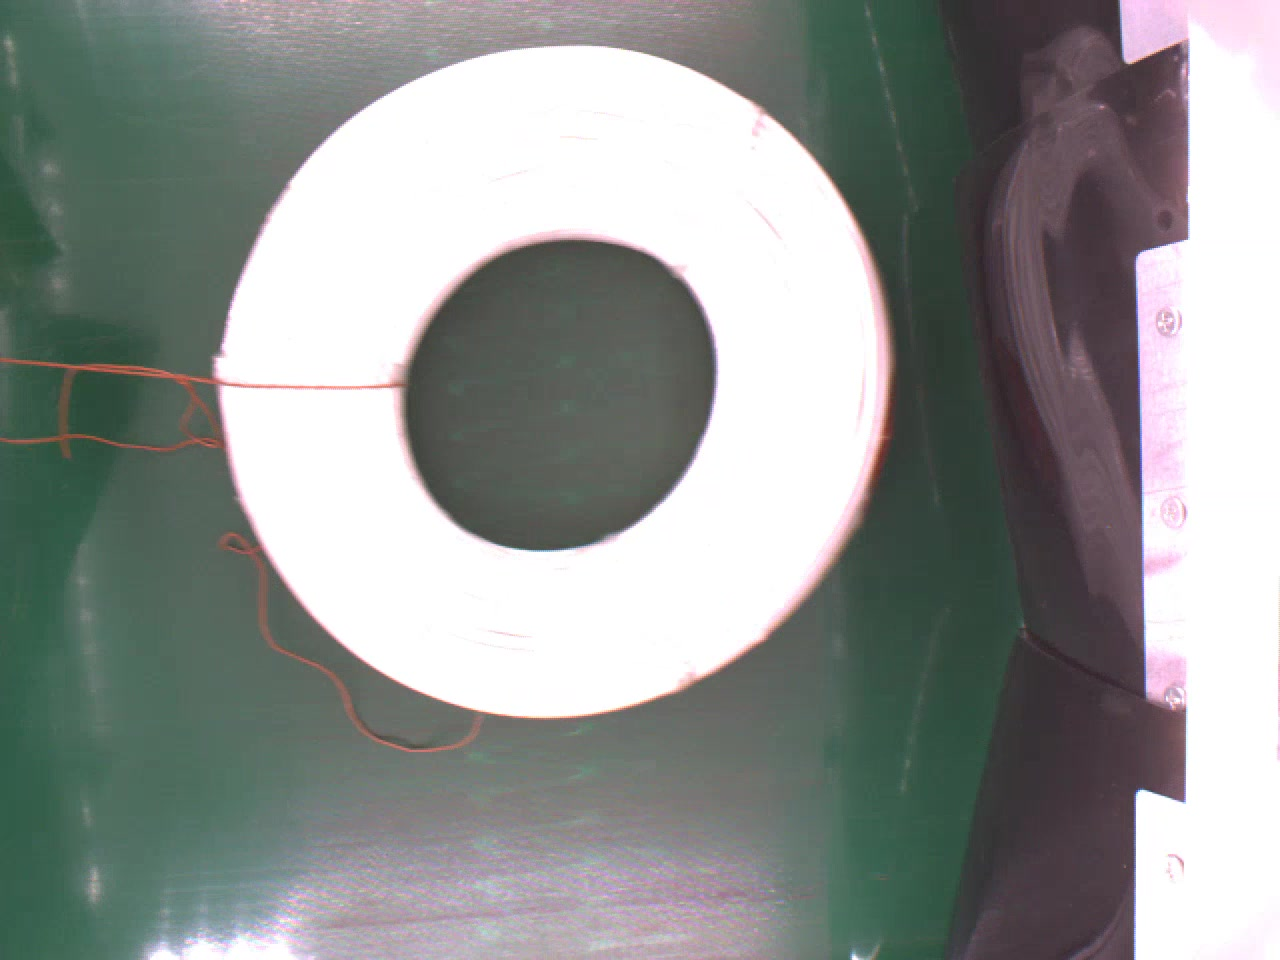white: (214, 45, 896, 710)
